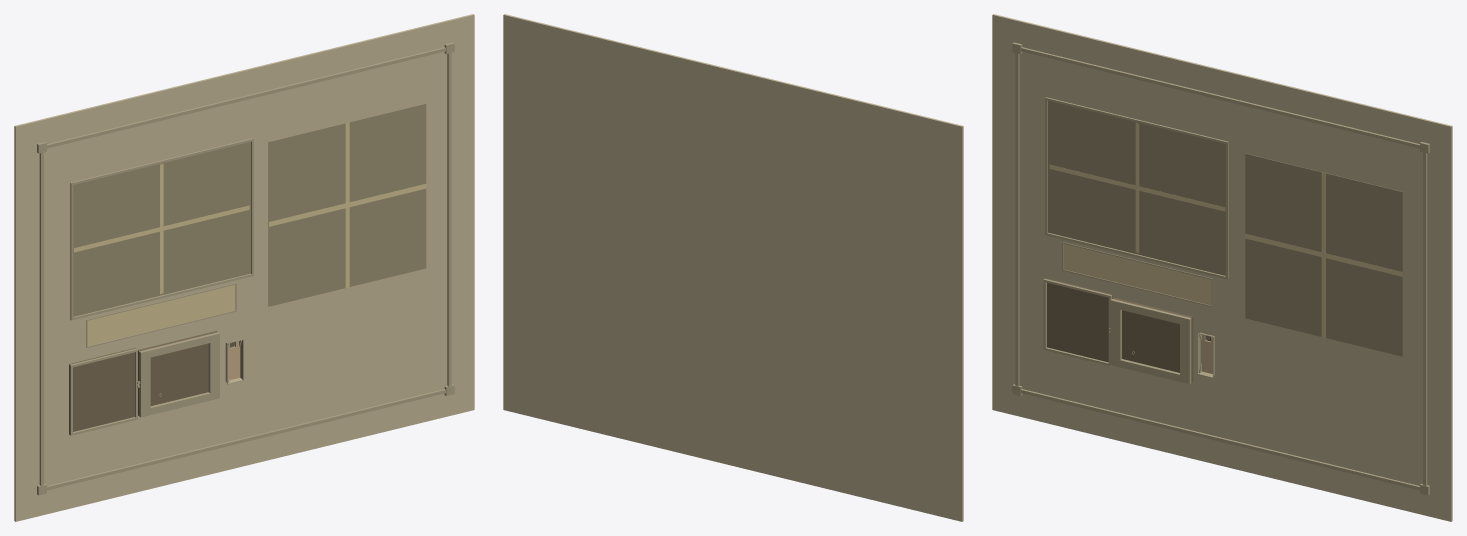
The model's file is dholavira.obj.
3 views of the same model, side by side, from view 1: azimuth 30°, elevation 25°; view 2: azimuth 150°, elevation 25°; view 3: azimuth 330°, elevation 25° (orthographic).
Visible parts, largest first — view 1: ground_0, lower_31, middle_19, bailey_14, stadium_26, castle_9, city-wall_1, city-wall_2, city-wall_3, city-wall_4, middle_24, lower_32 (+8 smaller); view 2: ground_0; view 3: ground_0, lower_31, middle_19, bailey_14, stadium_26, castle_9, city-wall_1, city-wall_2, city-wall_3, city-wall_4, middle_24, lower_32 (+9 smaller).
Part boxes in pixels (x1,y1,x2,y2): ground_0: (14, 14, 474, 521); lower_31: (268, 103, 426, 306); middle_19: (73, 141, 250, 316); bailey_14: (69, 348, 136, 434); stadium_26: (87, 284, 235, 346); castle_9: (138, 331, 217, 415); city-wall_1: (47, 389, 445, 490); city-wall_2: (47, 47, 445, 148); city-wall_3: (39, 152, 43, 485); city-wall_4: (447, 53, 451, 386); middle_24: (74, 205, 249, 252); lower_32: (269, 184, 426, 226); ground_0: (503, 14, 963, 521); ground_0: (992, 14, 1452, 521); lower_31: (1245, 153, 1402, 356); middle_19: (1048, 101, 1225, 275); bailey_14: (1045, 278, 1112, 362); stadium_26: (1063, 244, 1211, 305); castle_9: (1112, 297, 1193, 382); city-wall_1: (1021, 389, 1419, 490); city-wall_2: (1021, 47, 1419, 148); city-wall_3: (1015, 53, 1019, 386); city-wall_4: (1423, 152, 1427, 485); middle_24: (1049, 164, 1225, 211); lower_32: (1245, 233, 1402, 276).
Size of the model in its own units: 875 by 720 by 16.
